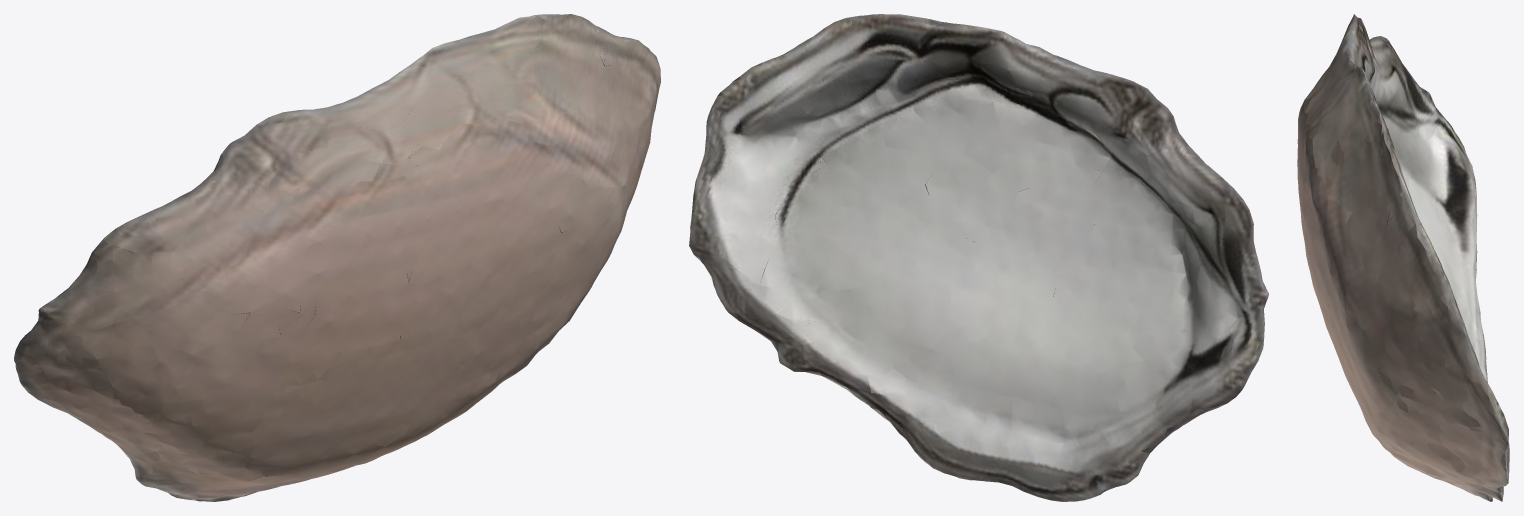
Rendered from 14_36_02_20_polished-silver-tray.glb.
3 renders of one model, left to right at view 1: azimuth 30°, elevation 25°; view 2: azimuth 150°, elevation 25°; view 3: azimuth 270°, elevation 25°, orthographic. The views are drawn at different scales.
Parts seen in each view (by area): view 1: world; view 2: world; view 3: world.
Part boxes in pixels (x1,y1,x2,y2): world: (14,14,660,501); world: (689,14,1268,501); world: (1297,14,1509,501).
Size of the model in its own units: 0.9364 by 0.6474 by 0.2832.
Materials: 1 (1 with a texture image).
